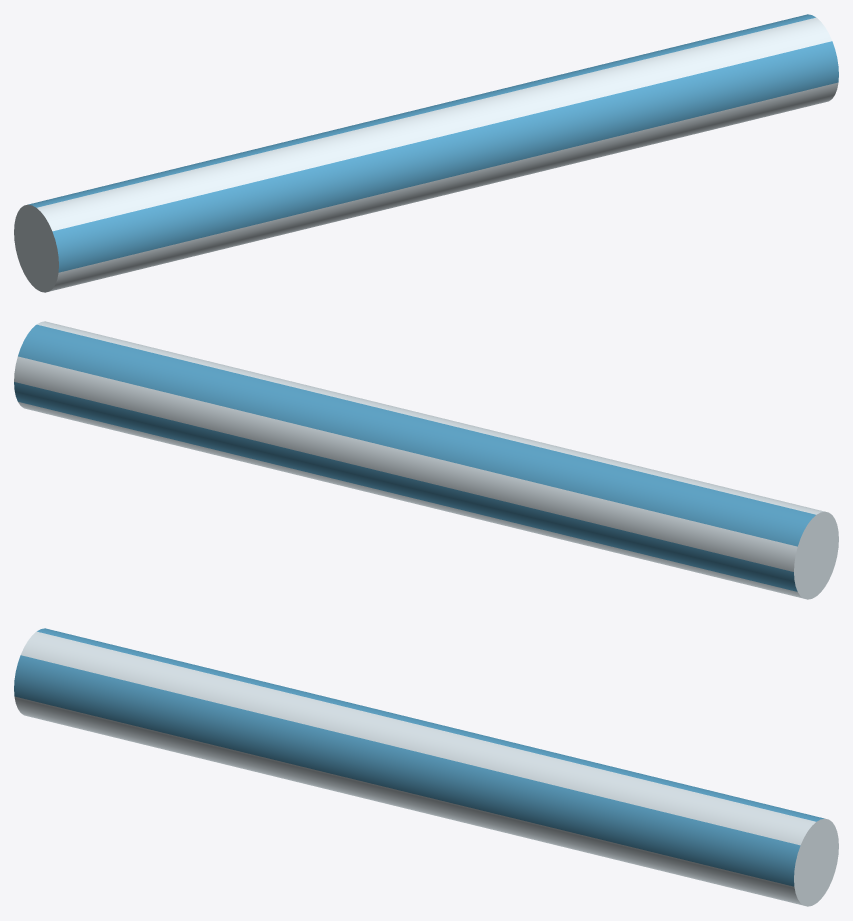
3 renders of one model, top to bottom at view 1: azimuth 30°, elevation 25°; view 2: azimuth 150°, elevation 25°; view 3: azimuth 330°, elevation 25°, orthographic.
Parts seen in each view (by area): view 1: Cylinder; view 2: Cylinder; view 3: Cylinder.
Part boxes in pixels (x1,y1,x2,y2): Cylinder: (14, 14, 838, 292); Cylinder: (14, 321, 838, 599); Cylinder: (14, 628, 838, 906).
Size of the model in its own units: 40 by 4 by 4.
Materials: 1 (1 with a texture image).
